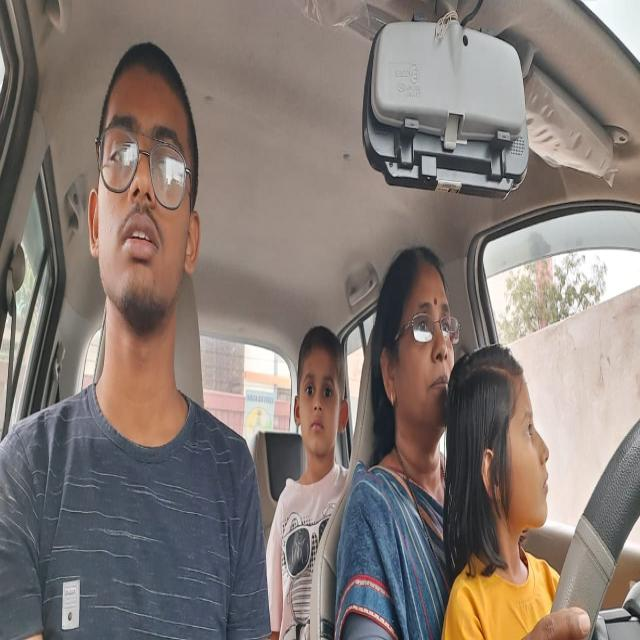child: (450, 338, 540, 562)
person: (88, 30, 200, 333), (373, 239, 458, 451), (296, 319, 346, 459)
